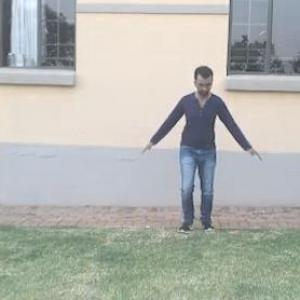land: (136, 62, 268, 235)
